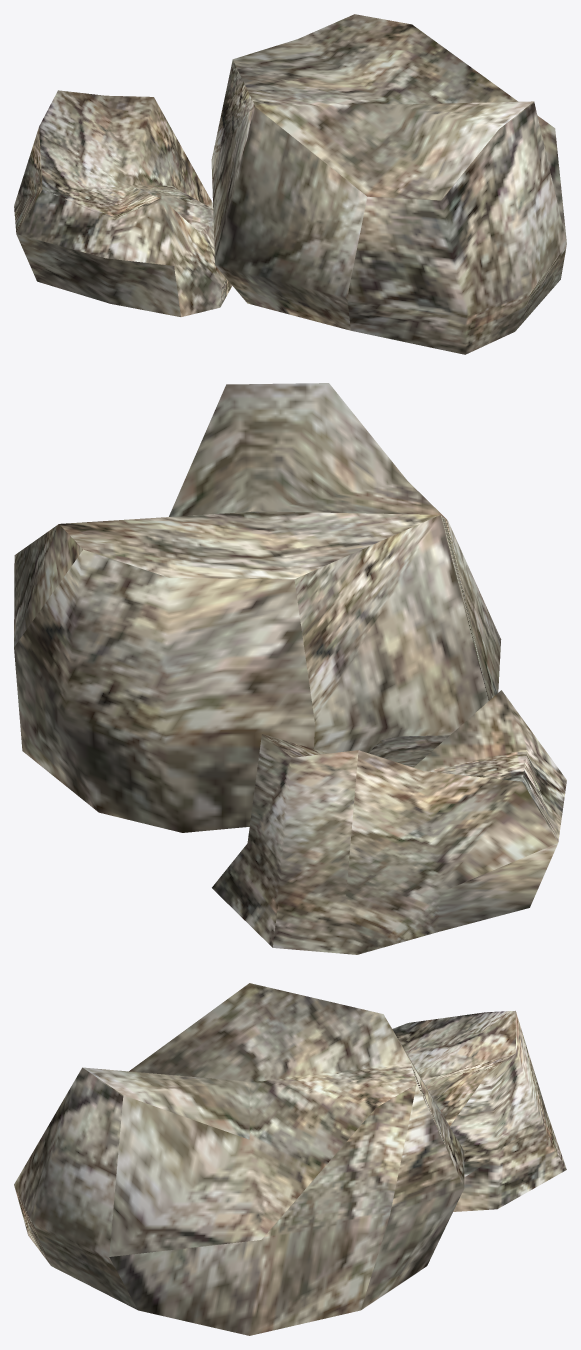
Rendered from geo_medit_06.dae.
3 views of the same model, one above another, from view 1: azimuth 30°, elevation 25°; view 2: azimuth 150°, elevation 25°; view 3: azimuth 270°, elevation 25° (orthographic). The views are drawn at different scales.
Parts seen in each view (by area): view 1: stone_granite_boulder_b-Pivot; view 2: stone_granite_boulder_b-Pivot; view 3: stone_granite_boulder_b-Pivot.
Boxes of the visible parts, x1,y1,x2,y2 form: stone_granite_boulder_b-Pivot: (14,14,566,354); stone_granite_boulder_b-Pivot: (14,383,566,954); stone_granite_boulder_b-Pivot: (14,983,566,1335).
Size of the model in its own units: 7.13 by 7.06 by 2.85.
